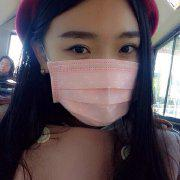OK: (54, 31, 150, 127)
